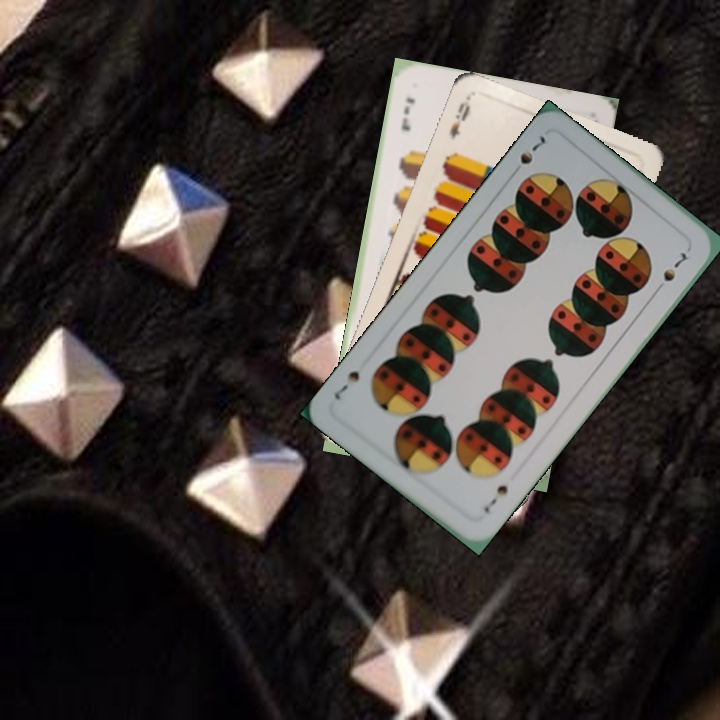E7: (397, 92, 417, 133)
E9: (445, 94, 473, 142)
S7: (516, 130, 548, 167), (480, 480, 510, 516)
